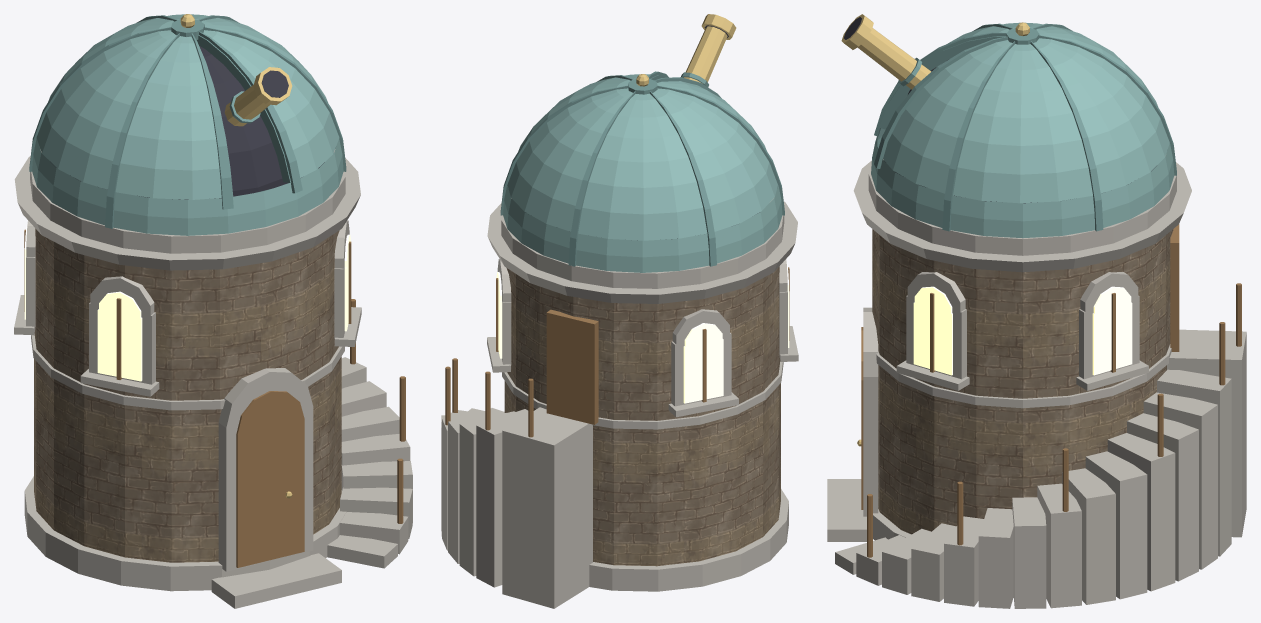
The model's file is observatory.glb.
The picture shows the model from 3 angles, left to right: view 1: azimuth 30°, elevation 25°; view 2: azimuth 150°, elevation 25°; view 3: azimuth 270°, elevation 25°; orthographic projection. The views are drawn at different scales.
Visible parts, largest first — view 1: Observatory; view 2: Observatory; view 3: Observatory.
Part boxes in pixels (x1,y1,x2,y2): Observatory: (14,14,412,608); Observatory: (441,14,798,608); Observatory: (827,14,1246,608).
Bounding box in the file's own units: 5.16 × 7.34 × 5.57.
8 materials, 1 textured.
